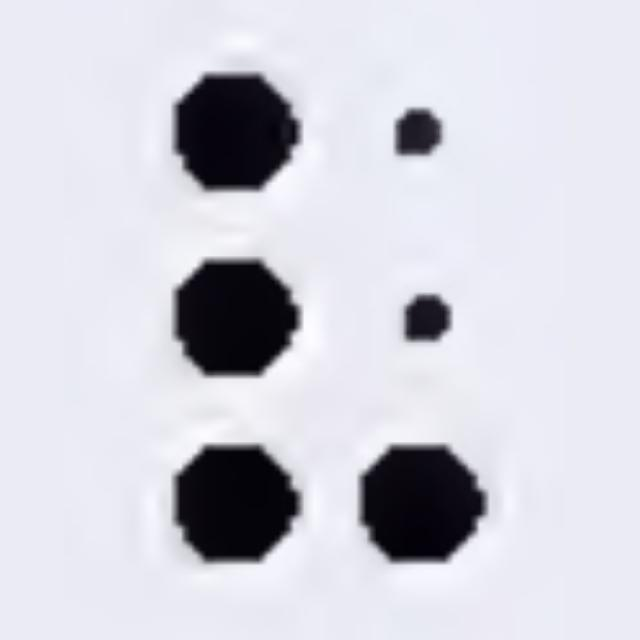v: (175, 75, 486, 564)
